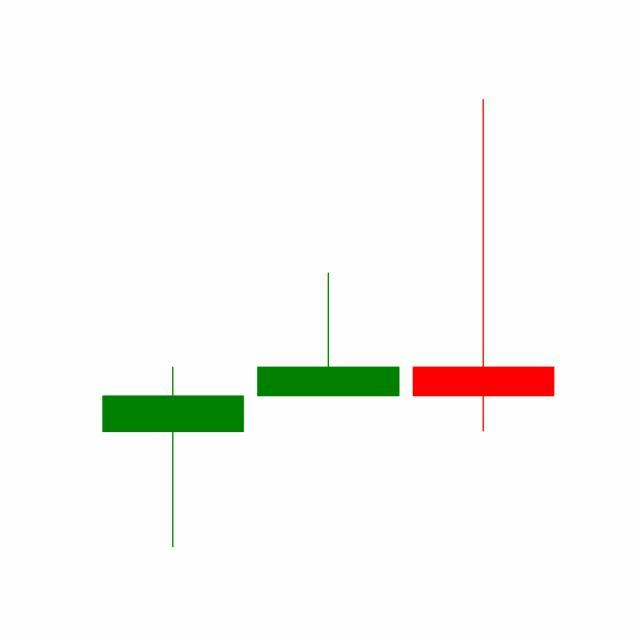Spinning Top: (406, 96, 562, 437)
